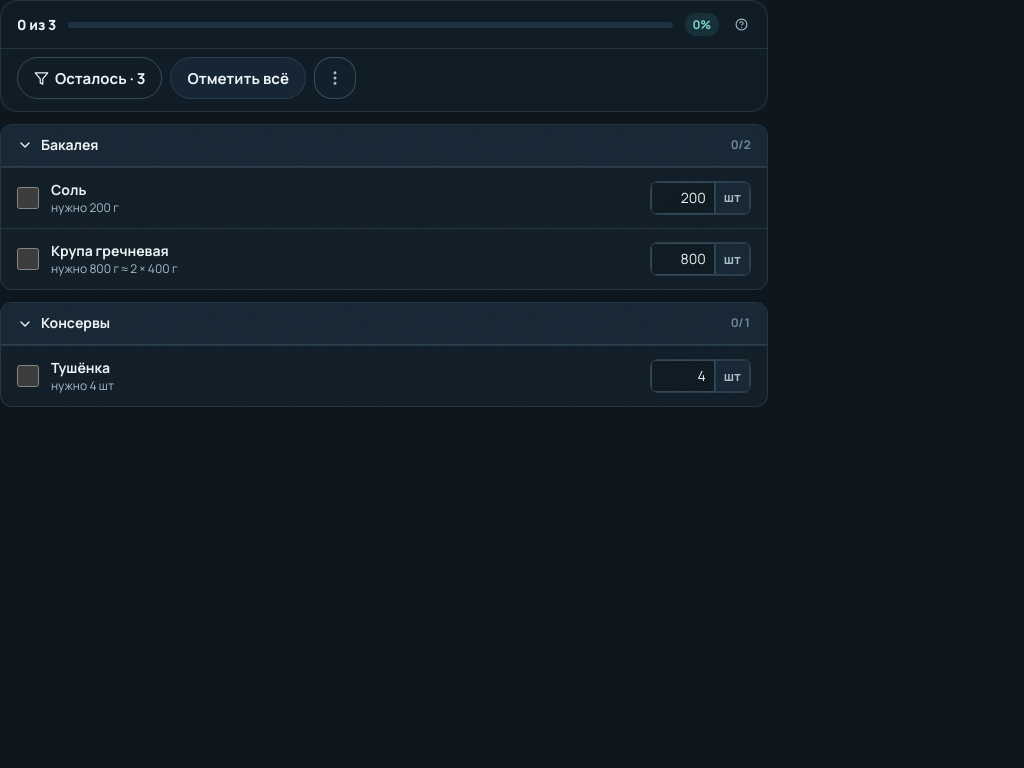
ChecklistTab — подтверждение массовых действий (подзадача 7) › Esc в диалоге отменяет массовое действие
Click the button with test id "checklist-all": click(238, 78) left=170, top=57, right=306, bottom=99
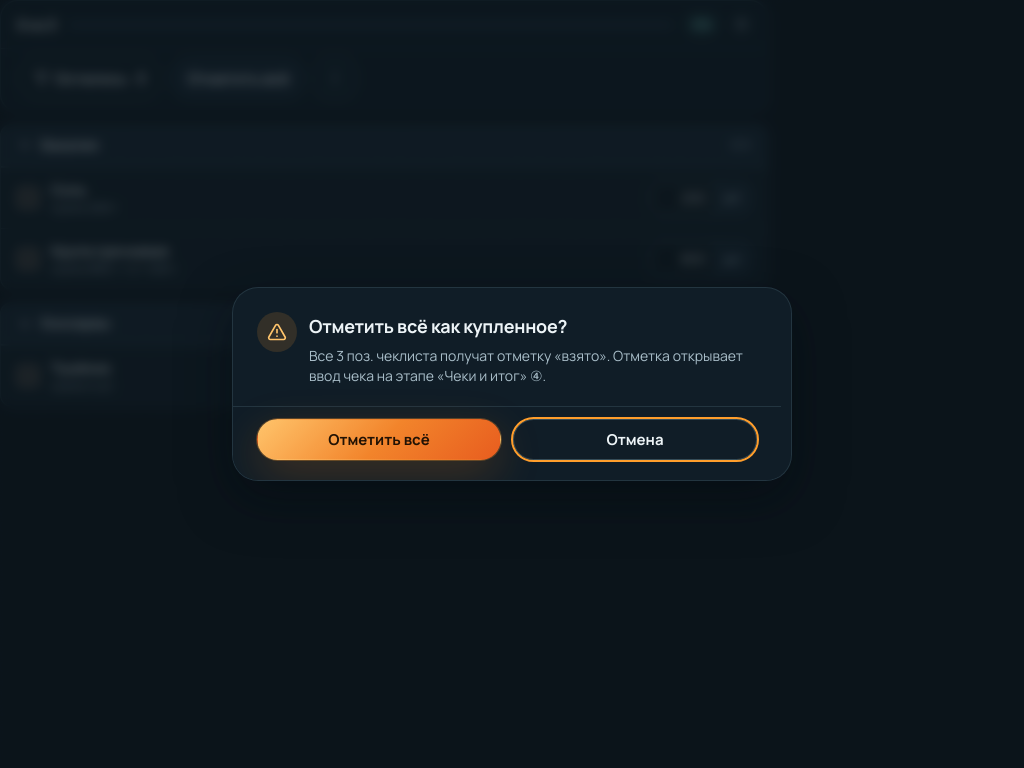
Press Escape
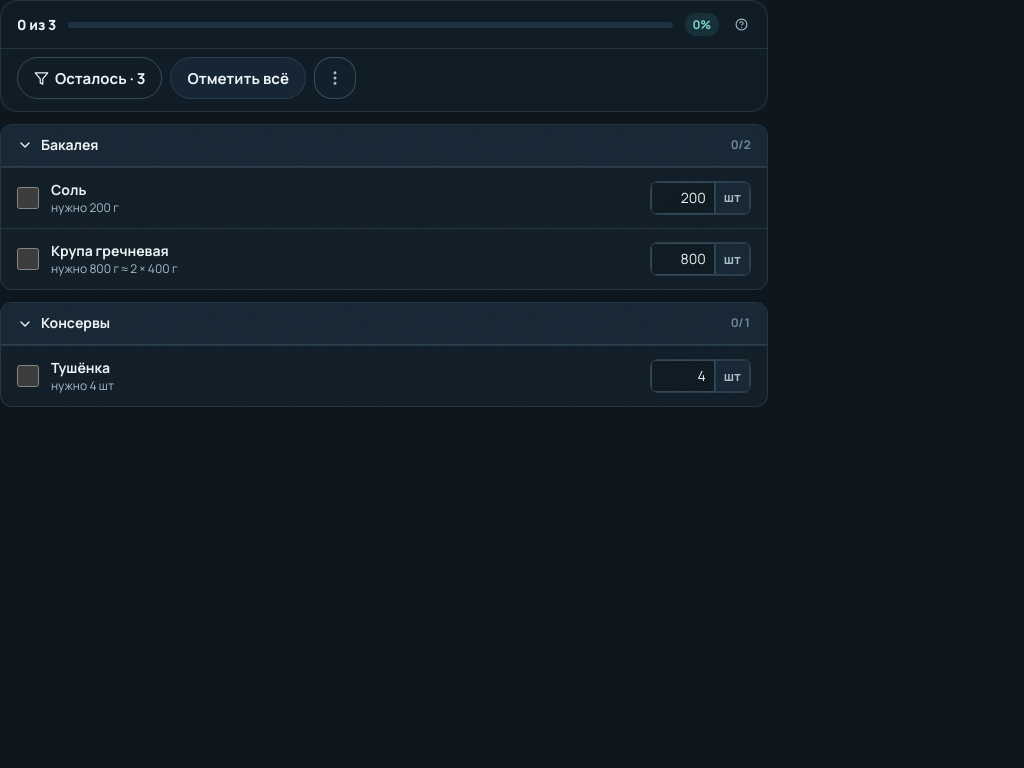
expect the dialog is gone: met
